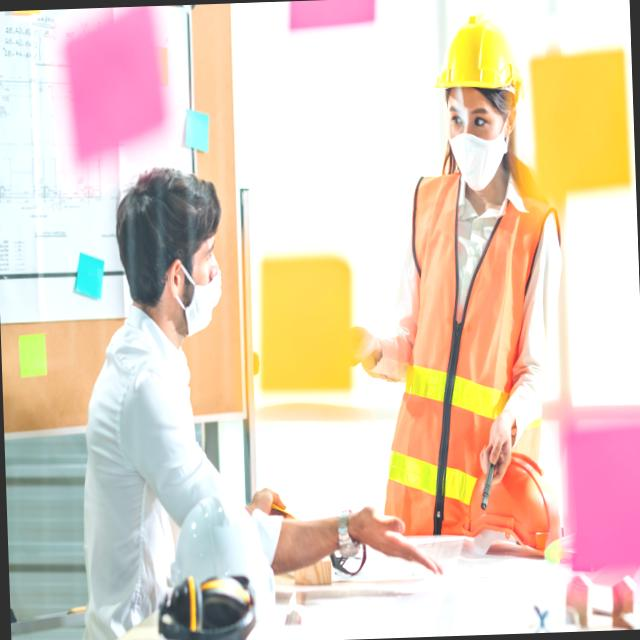helmet: (457, 444, 566, 556), (431, 5, 524, 103)
no-goggles: (444, 92, 511, 133)
no-helmet: (111, 117, 218, 234)
no-vest: (72, 334, 213, 640)
vest: (364, 165, 571, 557)
